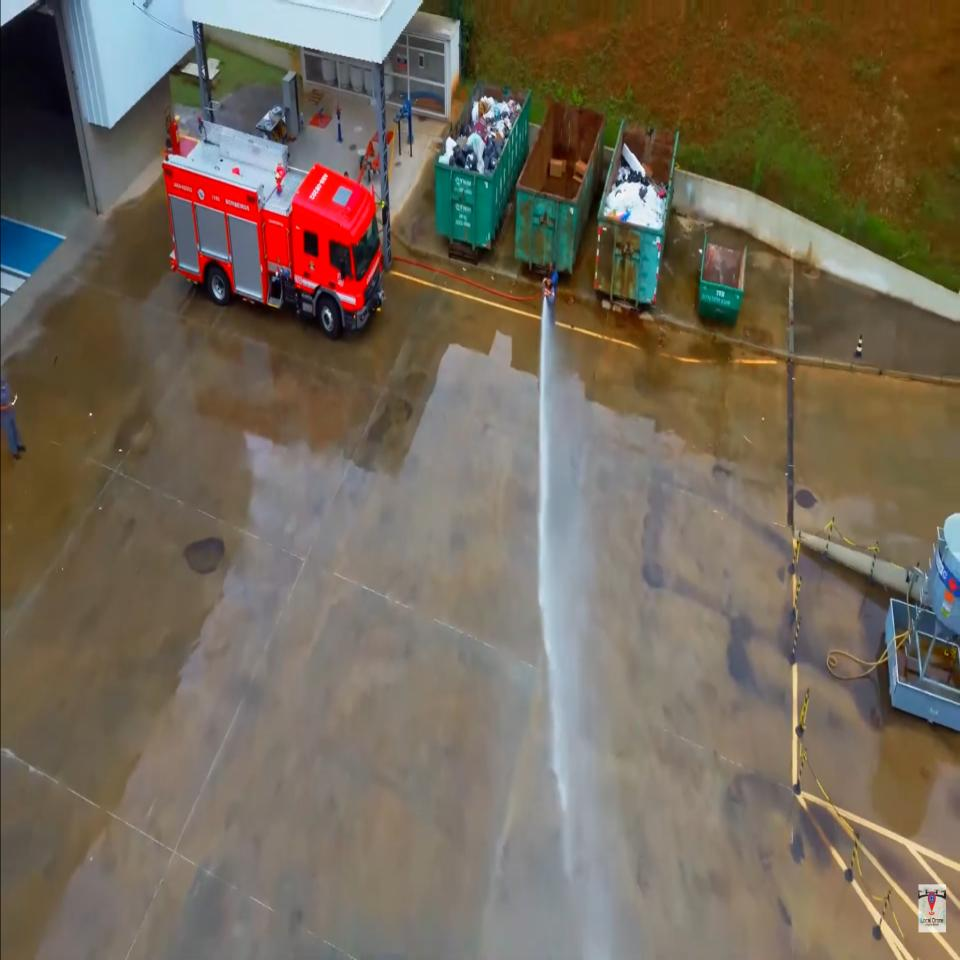viatura: (166, 114, 383, 336)
